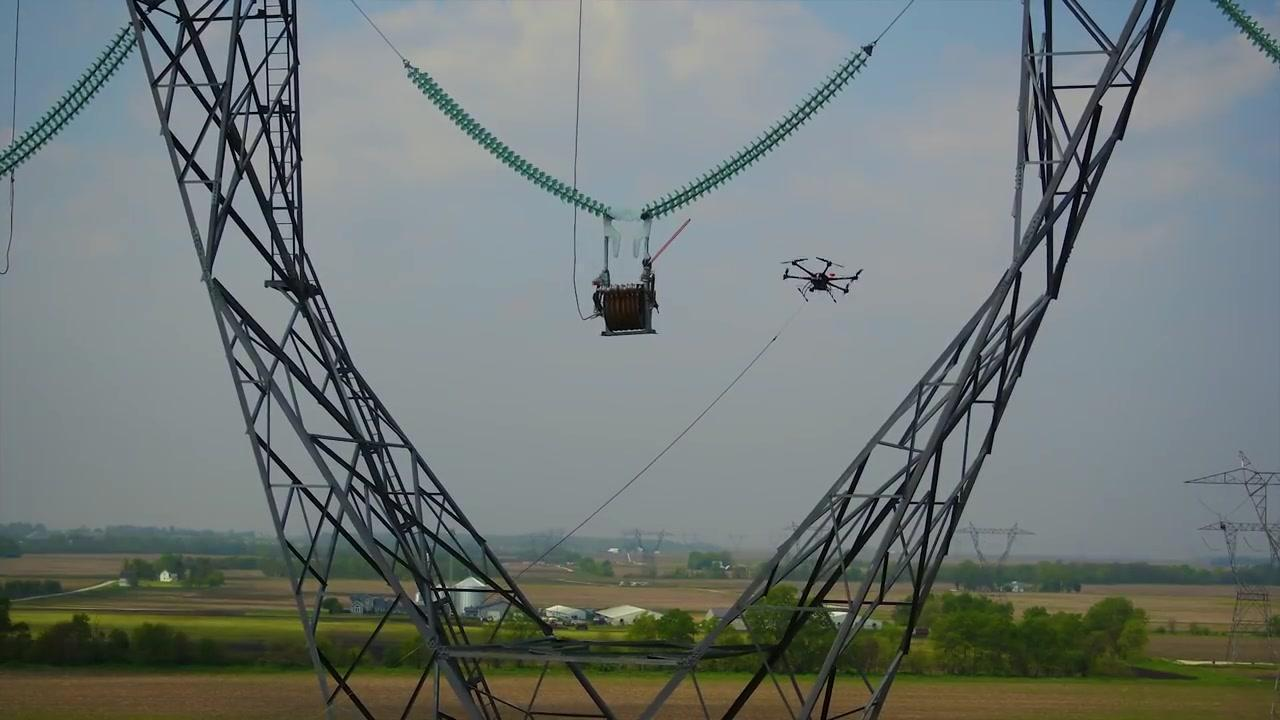UAV: (781, 258, 865, 304)
